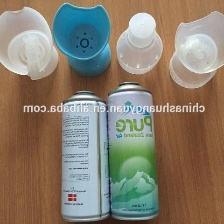aerosol_cans: (106, 78, 162, 224), (56, 86, 114, 224)
